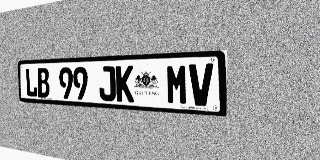9: (73, 67, 88, 100), (59, 67, 73, 99)
B: (37, 68, 50, 98)
J: (98, 66, 116, 101)
K: (116, 65, 134, 102)
L: (25, 68, 38, 97)
M: (166, 64, 188, 105)
V: (189, 63, 213, 107)
